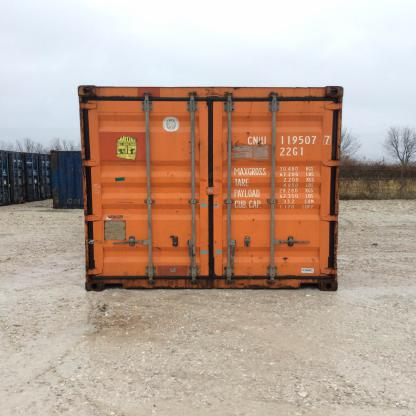Damage: (236, 244, 265, 274), (221, 135, 239, 168), (183, 135, 204, 163), (157, 165, 186, 180), (243, 102, 262, 124), (118, 265, 142, 279), (170, 196, 186, 214), (252, 137, 268, 152), (114, 198, 139, 207), (247, 211, 260, 227), (151, 242, 165, 253), (280, 254, 291, 268), (298, 99, 313, 108), (308, 254, 320, 265), (294, 217, 305, 228), (131, 243, 139, 251), (244, 128, 250, 136)
